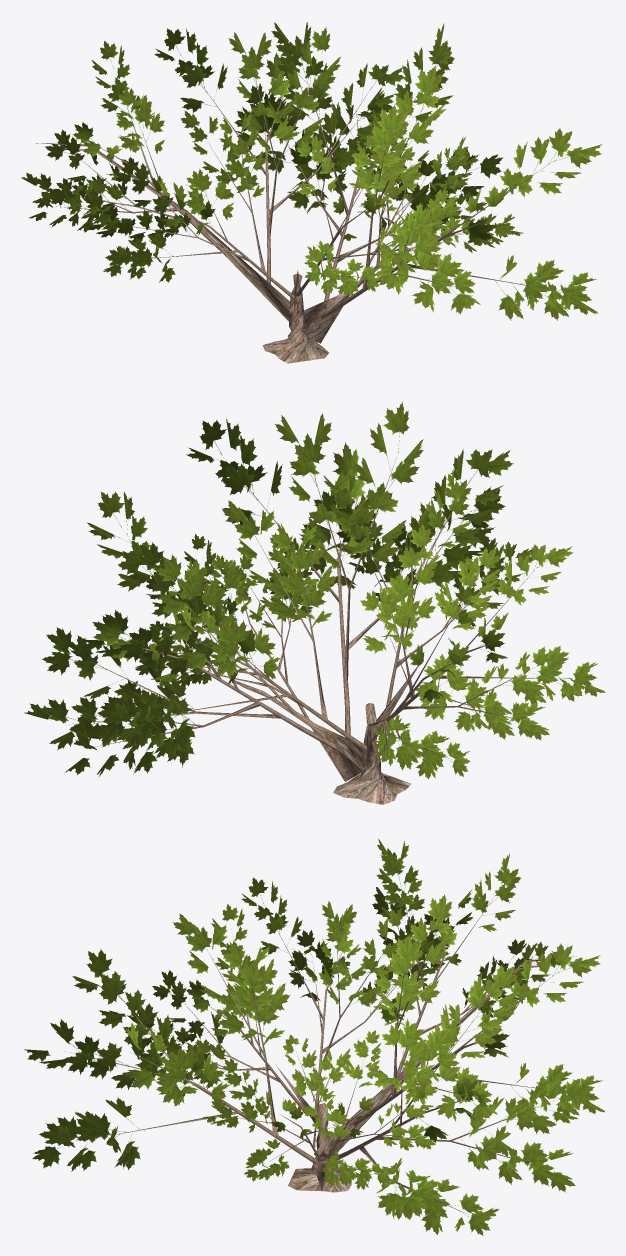
The model's file is bush12.obj.
The picture shows the model from 3 angles, top to bottom: view 1: azimuth 30°, elevation 25°; view 2: azimuth 150°, elevation 25°; view 3: azimuth 270°, elevation 25°; orthographic projection. The views are drawn at different scales.
Visible parts, largest first — view 1: leaf maple, bark02; view 2: leaf maple, bark02; view 3: leaf maple, bark02.
Part boxes in pixels (bbox=[...]): leaf maple: bbox=[21, 22, 601, 320]; bark02: bbox=[36, 63, 560, 363]; leaf maple: bbox=[24, 401, 605, 779]; bark02: bbox=[69, 455, 569, 804]; leaf maple: bbox=[24, 839, 604, 1235]; bark02: bbox=[70, 874, 576, 1214].
Bounding box in the file's own units: 269 × 156 × 286.
2 materials, 2 textured.
